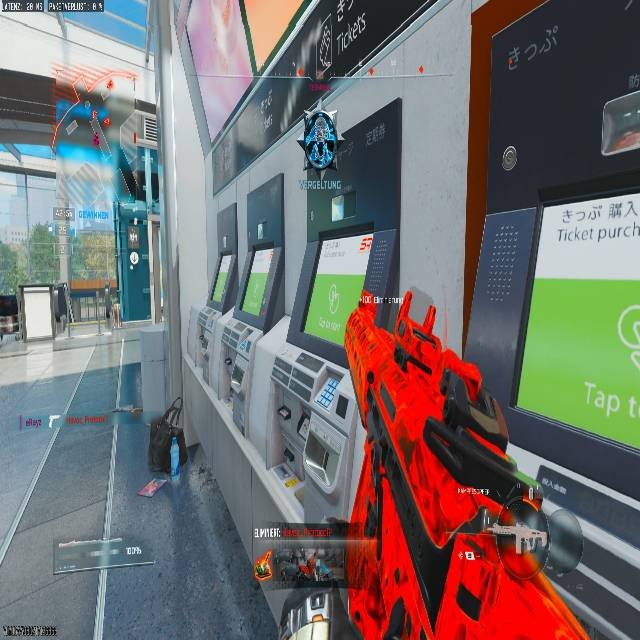player: (306, 551, 320, 577)
